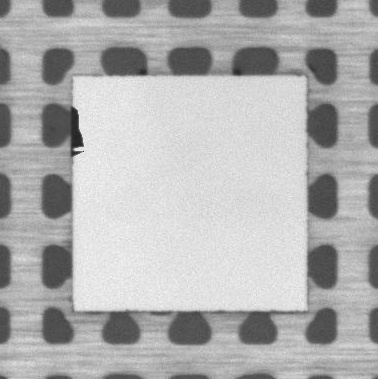DIE_BROKEN: (68, 100, 86, 162)
